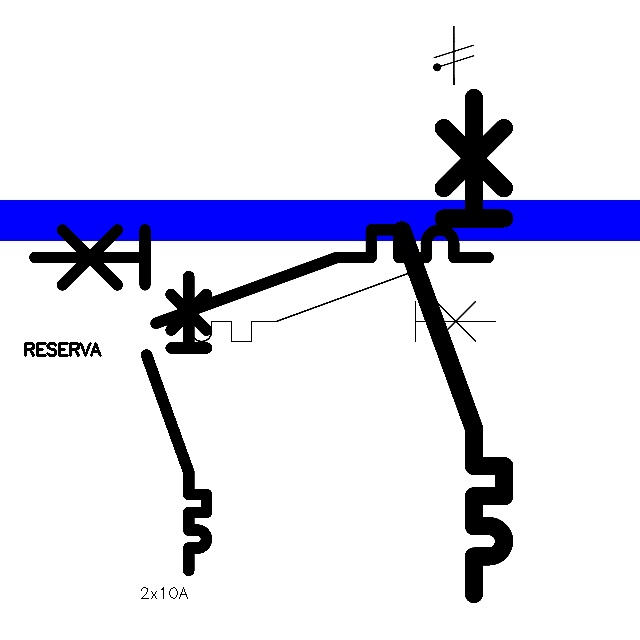interruptor_termomagnetico: (389, 85, 517, 607), (23, 218, 500, 334), (158, 265, 504, 350), (139, 269, 214, 578)
